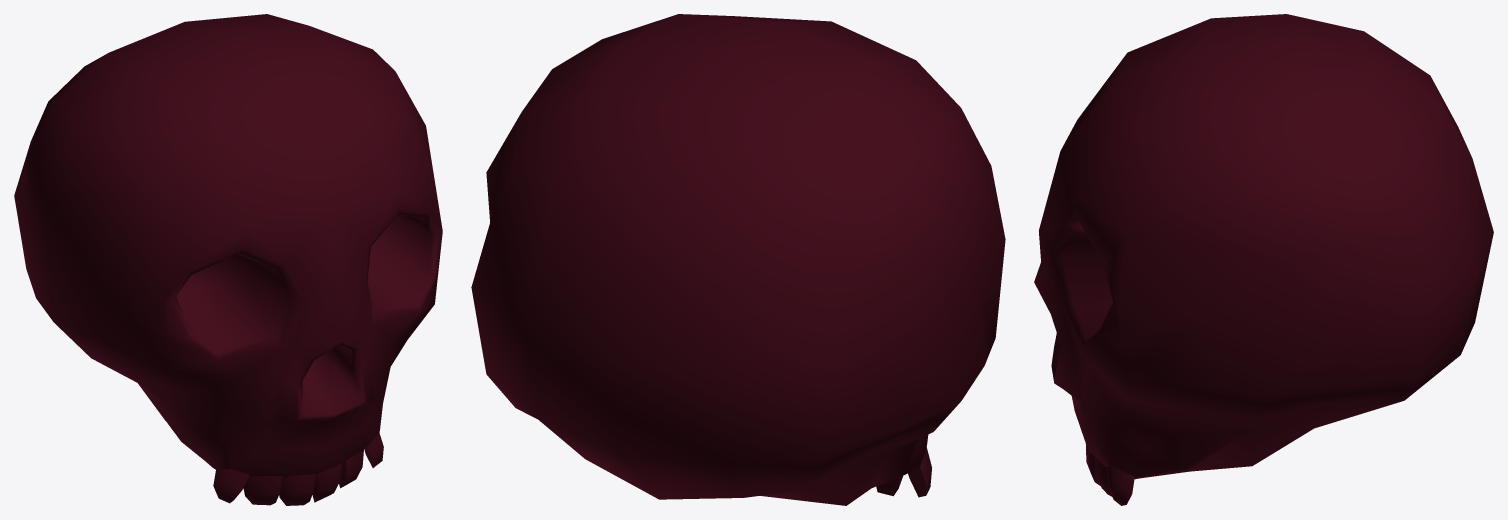
The model's file is Skeleton.fbx.
3 renders of one model, left to right at view 1: azimuth 30°, elevation 25°; view 2: azimuth 150°, elevation 25°; view 3: azimuth 270°, elevation 25°, orthographic. The views are drawn at different scales.
Visible parts, largest first — view 1: Skeleton; view 2: Skeleton; view 3: Skeleton.
Part boxes in pixels (x1=…): Skeleton: x1=14, y1=14, x2=442, y2=505; Skeleton: x1=471, y1=14, x2=1005, y2=505; Skeleton: x1=1034, y1=14, x2=1493, y2=505.
Bounding box in the file's own units: 2.43 × 2.67 × 2.54.
